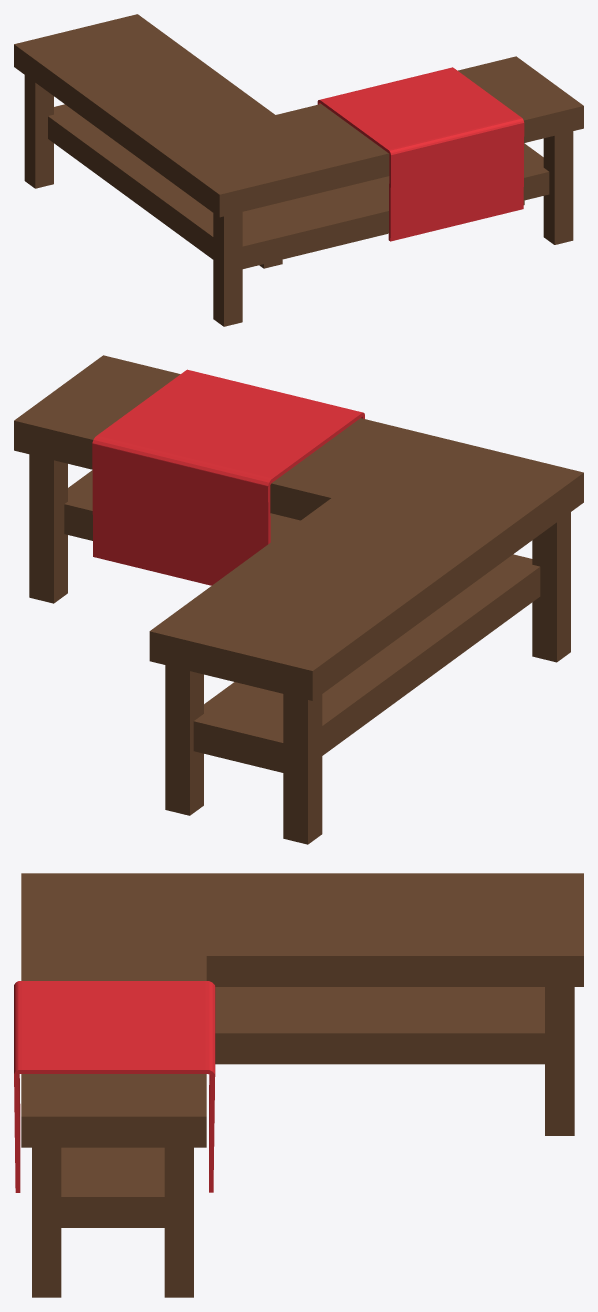
File: Table.fbx
3 views of the same model, one above another, from view 1: azimuth 30°, elevation 25°; view 2: azimuth 150°, elevation 25°; view 3: azimuth 270°, elevation 25° (orthographic). The views are drawn at different scales.
Visible parts, largest first — view 1: Table, Paninho; view 2: Table, Paninho; view 3: Table, Paninho.
Boxes of the visible parts, x1=… form: Table: x1=14, y1=14, x2=583, y2=326; Paninho: x1=317, y1=67, x2=524, y2=241; Table: x1=14, y1=355, x2=583, y2=844; Paninho: x1=92, y1=369, x2=364, y2=585; Table: x1=21, y1=873, x2=583, y2=1297; Paninho: x1=14, y1=981, x2=215, y2=1192.
Bounding box in the file's own units: 365 × 134 × 362.
